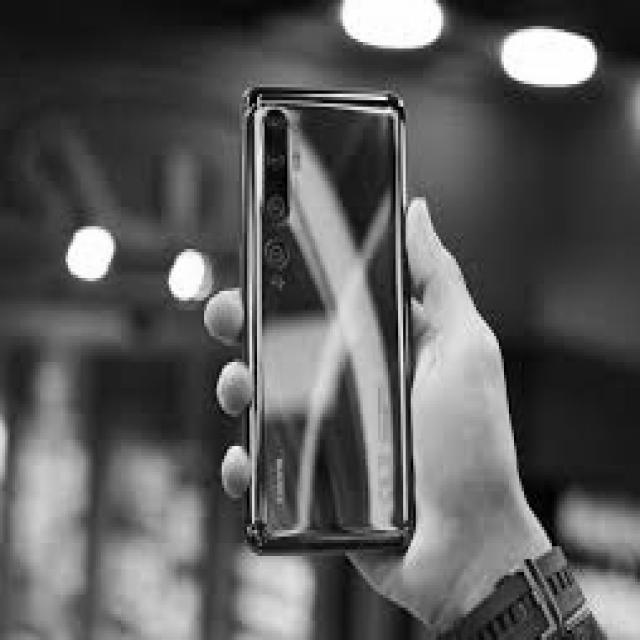No gun_phone: (242, 85, 417, 560)
